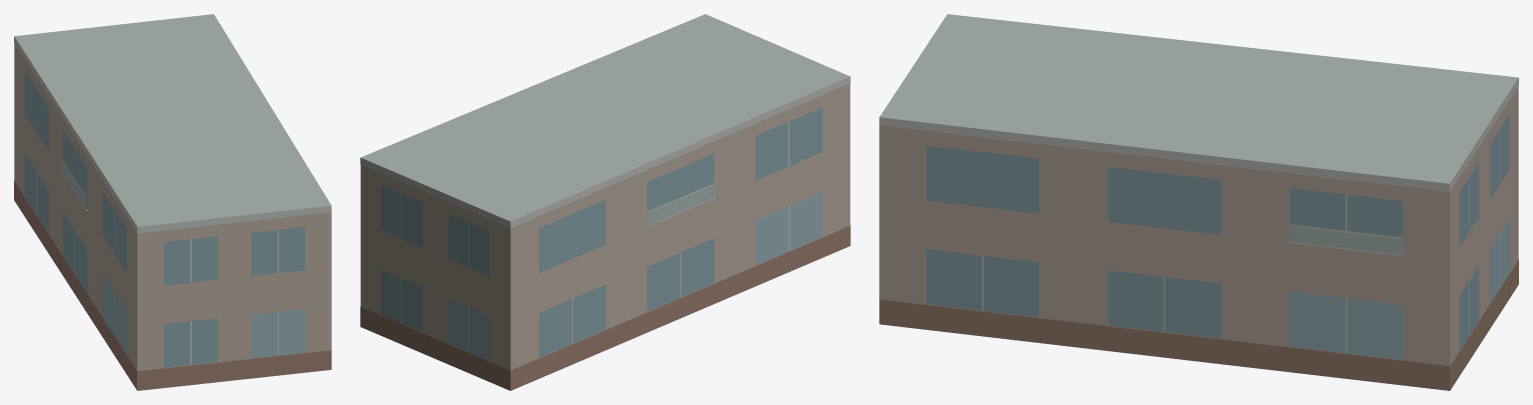
File: survey-upis-32737235.glb
3 views of the same model, side by side, from view 1: azimuth 30°, elevation 25°; view 2: azimuth 150°, elevation 25°; view 3: azimuth 270°, elevation 25° (orthographic). The views are drawn at different scales.
Visible parts, largest first — view 1: survey-upis-32737235.tmp; view 2: survey-upis-32737235.tmp; view 3: survey-upis-32737235.tmp.
Part boxes in pixels (bbox=[...]): survey-upis-32737235.tmp: bbox=[14, 14, 331, 390]; survey-upis-32737235.tmp: bbox=[360, 14, 850, 390]; survey-upis-32737235.tmp: bbox=[879, 14, 1518, 390].
Bounding box in the file's own units: 10.73 × 6.1 × 17.08.
